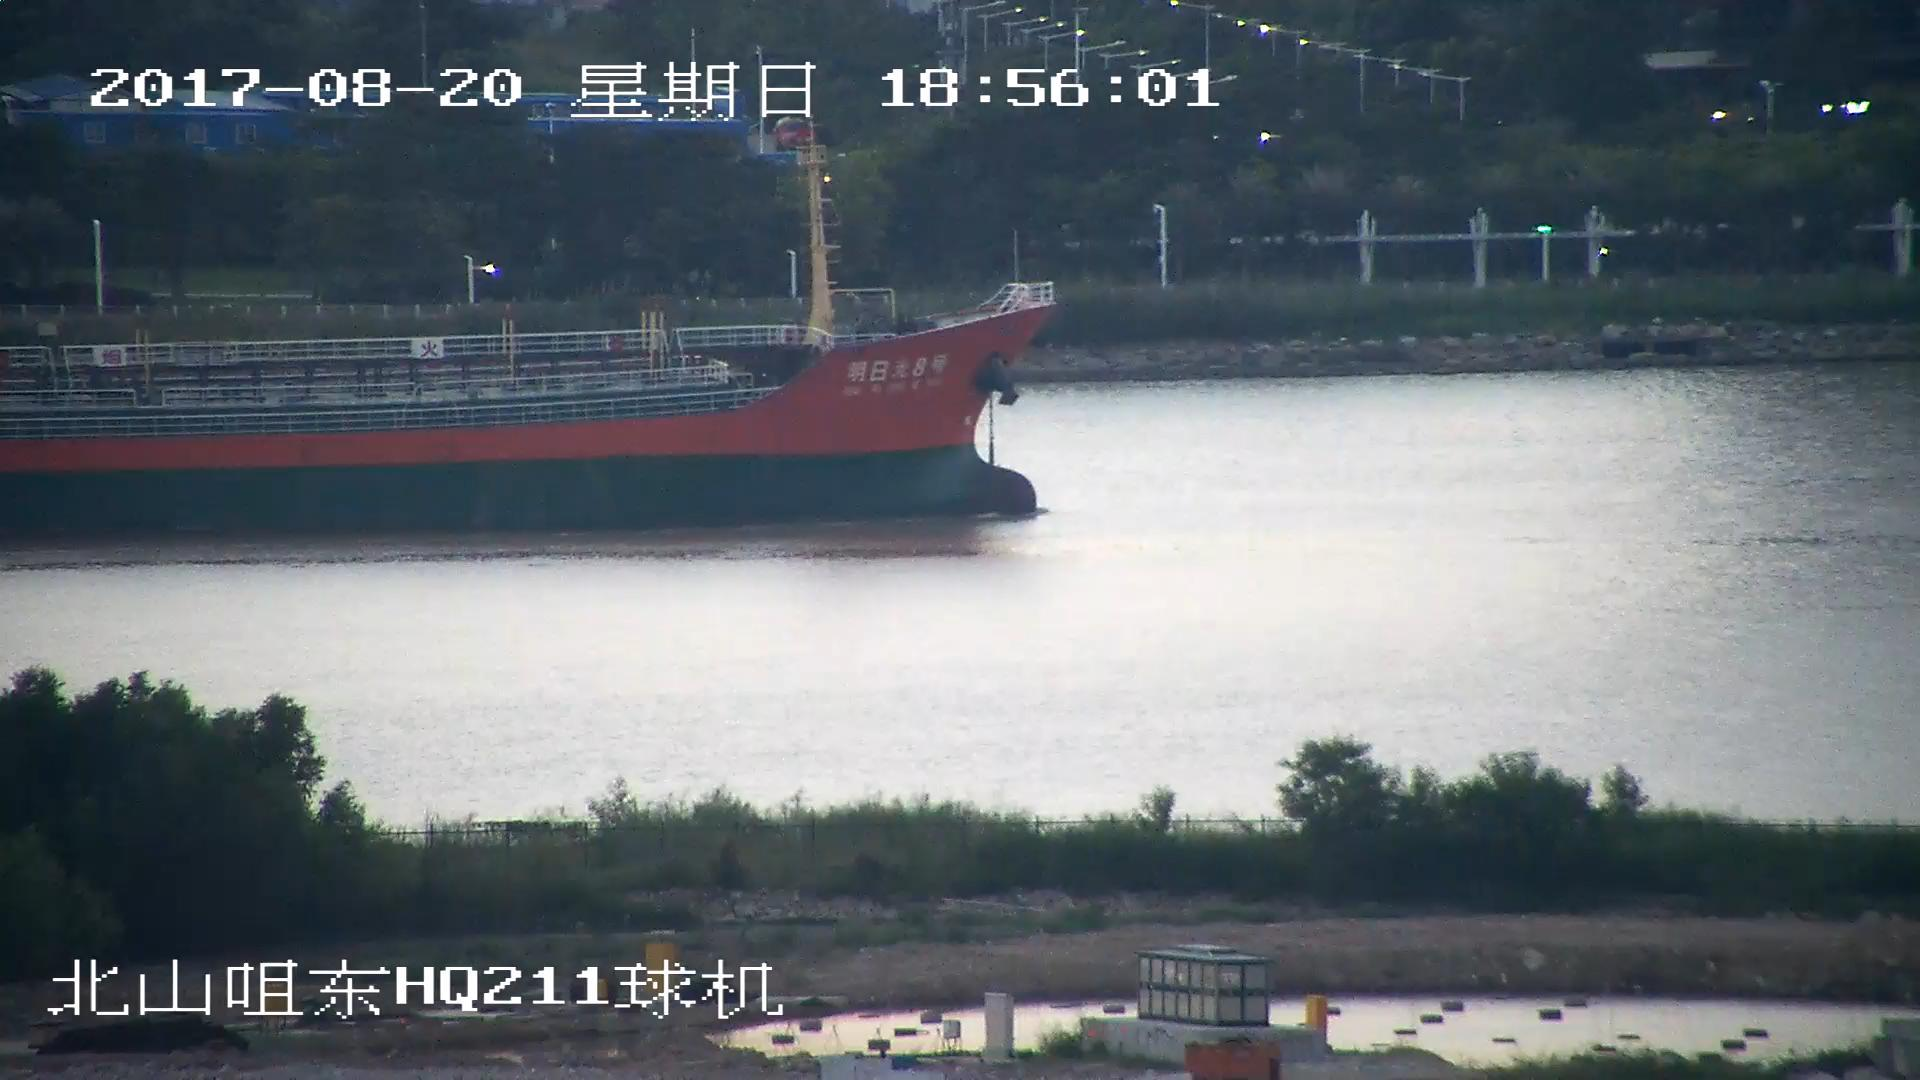Ship: (3, 145, 1056, 543)
